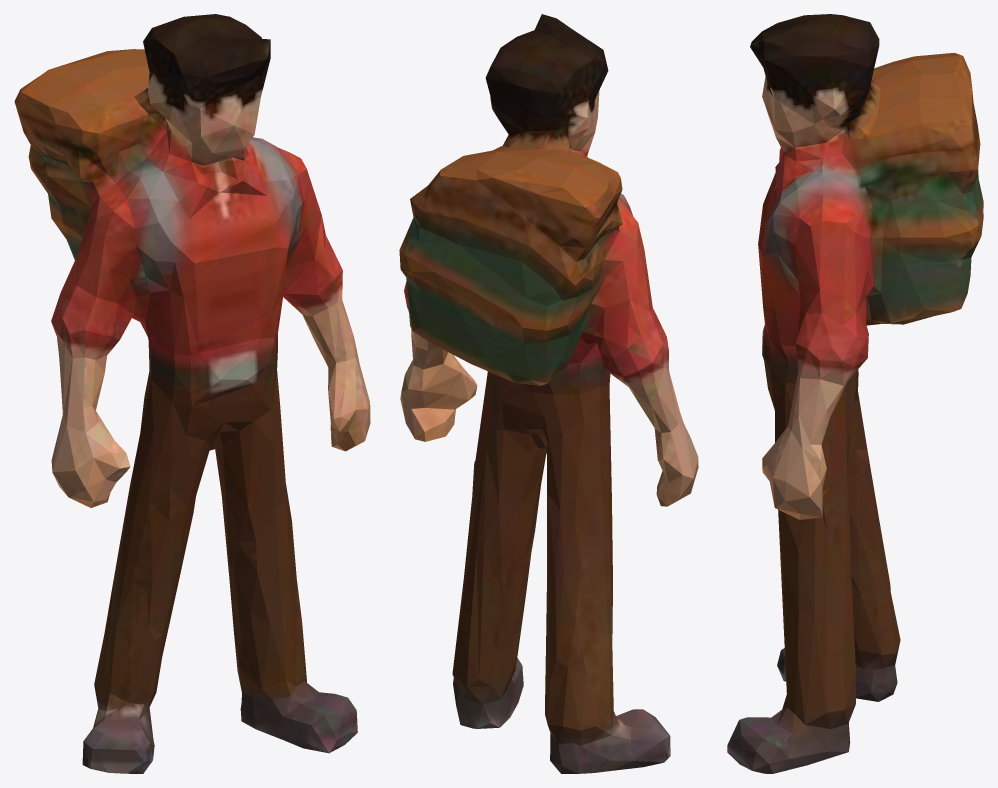
Rendered from habitant-loin.glb.
3 views of the same model, side by side, from view 1: azimuth 30°, elevation 25°; view 2: azimuth 150°, elevation 25°; view 3: azimuth 270°, elevation 25° (orthographic). The views are drawn at different scales.
Parts seen in each view (by area): view 1: habitant; view 2: habitant; view 3: habitant.
Boxes of the visible parts, <box> form: habitant: <box>14,14,370,773</box>; habitant: <box>399,14,698,773</box>; habitant: <box>727,14,983,773</box>.
Size of the model in its own units: 0.4544 by 1.01 by 0.3344.
1 material, 1 textured.
